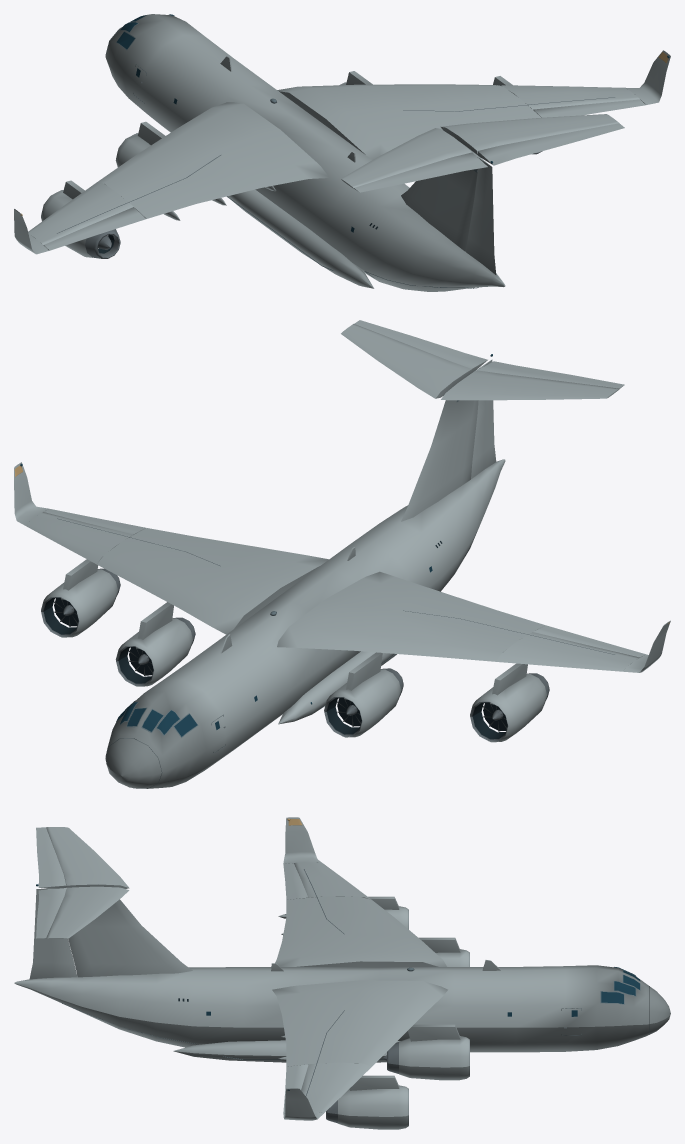
File: player-c17-mobile-v3.glb
3 renders of one model, top to bottom at view 1: azimuth 30°, elevation 25°; view 2: azimuth 150°, elevation 25°; view 3: azimuth 270°, elevation 25°, orthographic. The views are drawn at different scales.
Parts seen in each view (by area): view 1: hull, rudder-skin, elevator-right-skin, elevator-left-skin, aileron-left-skin, aileron-right-skin, metal, trim; view 2: hull, dark, metal, rudder-skin, elevator-right-skin, glass, elevator-left-skin, aileron-left-skin, aileron-right-skin; view 3: hull, rudder-skin, elevator-left-skin, elevator-right-skin, glass, metal, aileron-left-skin, trim, aileron-right-skin.
Boxes of the visible parts, x1=… form: hull: x1=14, y1=14, x2=670, y2=291; rudder-skin: x1=466, y1=158, x2=496, y2=274; elevator-right-skin: x1=477, y1=123, x2=624, y2=165; elevator-left-skin: x1=354, y1=152, x2=487, y2=192; aileron-left-skin: x1=43, y1=207, x2=145, y2=250; aileron-right-skin: x1=533, y1=99, x2=645, y2=117; metal: x1=46, y1=81, x2=542, y2=258; trim: x1=105, y1=14, x2=478, y2=288; hull: x1=14, y1=324, x2=670, y2=788; dark: x1=43, y1=541, x2=507, y2=739; metal: x1=41, y1=568, x2=549, y2=741; rudder-skin: x1=471, y1=359, x2=496, y2=478; elevator-right-skin: x1=354, y1=320, x2=487, y2=372; glass: x1=20, y1=354, x2=492, y2=736; elevator-left-skin: x1=478, y1=361, x2=624, y2=388; aileron-left-skin: x1=533, y1=625, x2=645, y2=657; aileron-right-skin: x1=44, y1=509, x2=145, y2=534; hull: x1=14, y1=817, x2=670, y2=1129; rudder-skin: x1=29, y1=888, x2=76, y2=979; elevator-left-skin: x1=36, y1=827, x2=66, y2=888; elevator-right-skin: x1=36, y1=888, x2=66, y2=938; glass: x1=36, y1=884, x2=639, y2=1090; metal: x1=326, y1=910, x2=566, y2=1125; aileron-left-skin: x1=283, y1=863, x2=308, y2=899; trim: x1=62, y1=967, x2=649, y2=1059; aileron-right-skin: x1=283, y1=1064, x2=308, y2=1113.
Size of the model in its own units: 51.75 by 14.79 by 53.
